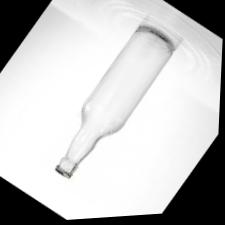glass: (55, 26, 173, 177)
